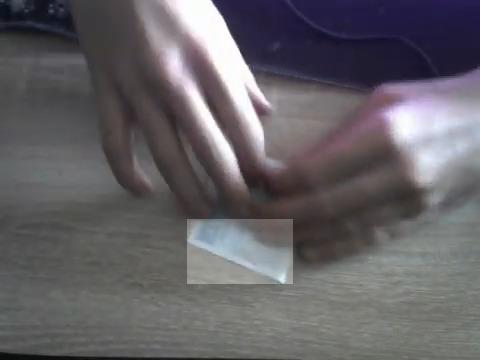20leva: (187, 219, 293, 284)
